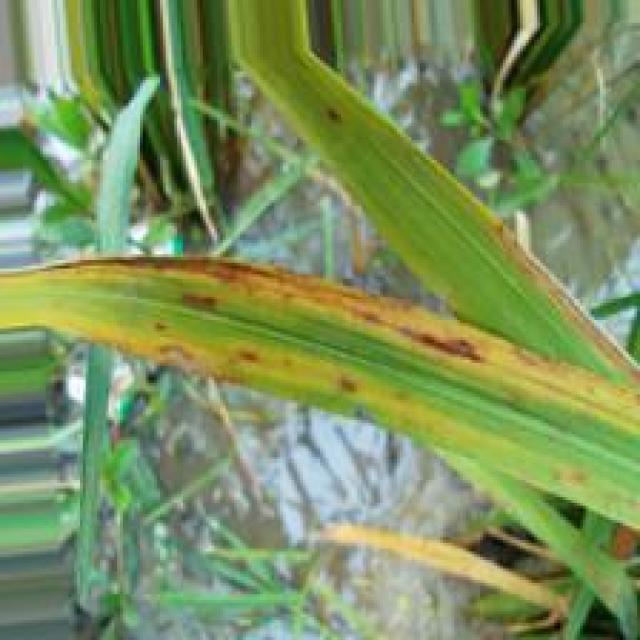Narrow_Brown_Leaf_Spot: (3, 199, 640, 438), (6, 310, 602, 502)
